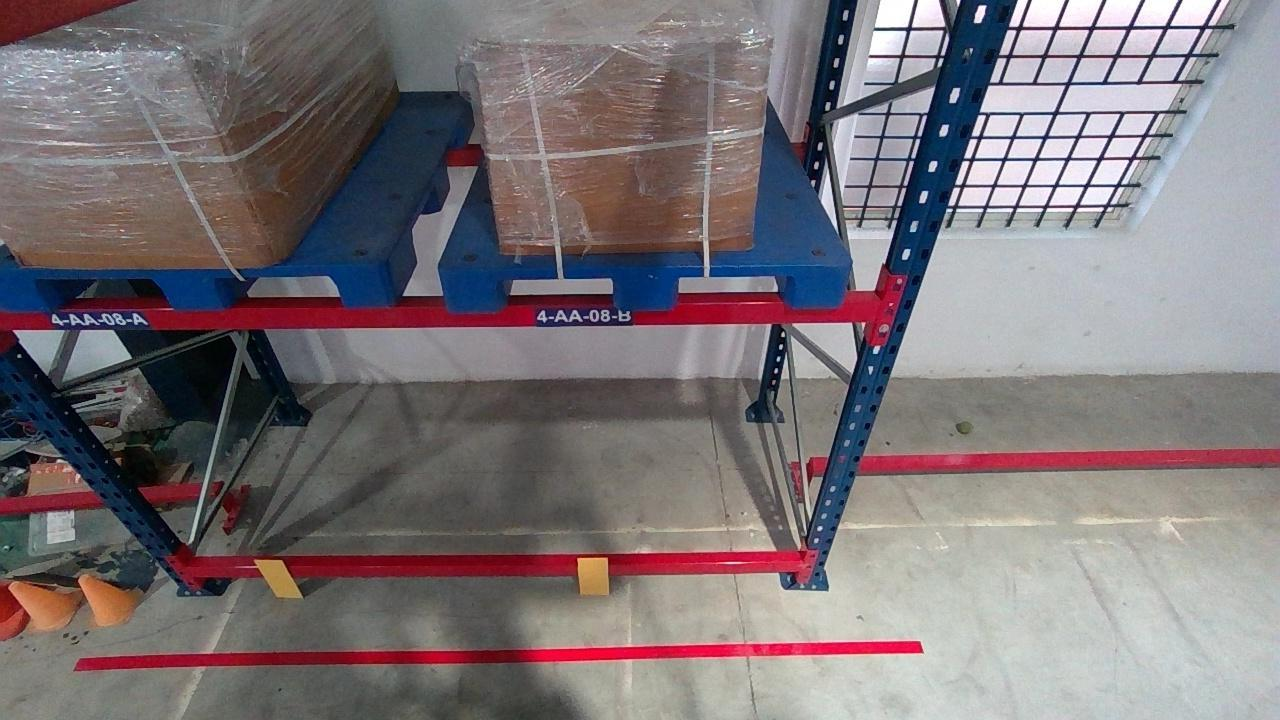h_rack: (3, 299, 887, 330), (183, 559, 806, 578)
orange_strip: (252, 558, 303, 597), (576, 556, 609, 595)
red_line: (70, 640, 924, 667)
small_pallet: (0, 263, 395, 309), (441, 263, 847, 307)
